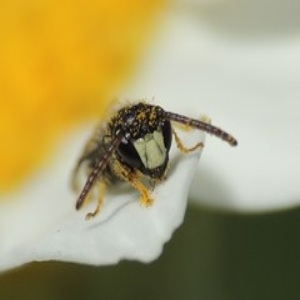bee: (74, 98, 240, 224)
